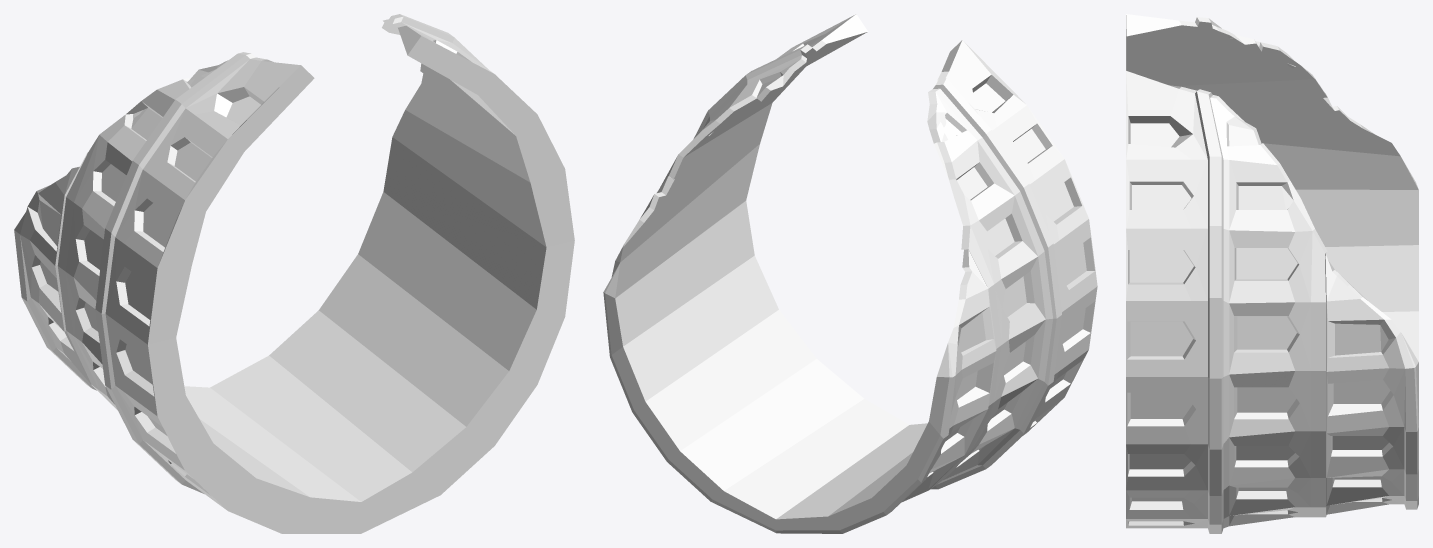
The model's file is venice_building_13.fbx.
3 views of the same model, side by side, from view 1: azimuth 30°, elevation 25°; view 2: azimuth 150°, elevation 25°; view 3: azimuth 270°, elevation 25° (orthographic). The views are drawn at different scales.
Parts seen in each view (by area): view 1: Cylinder.038; view 2: Cylinder.038; view 3: Cylinder.038.
Boxes of the visible parts, x1,y1,x2,y2 form: Cylinder.038: [14, 14, 574, 533]; Cylinder.038: [603, 14, 1097, 533]; Cylinder.038: [1126, 14, 1418, 533].
Size of the model in its own units: 2982 by 3210 by 1806.
